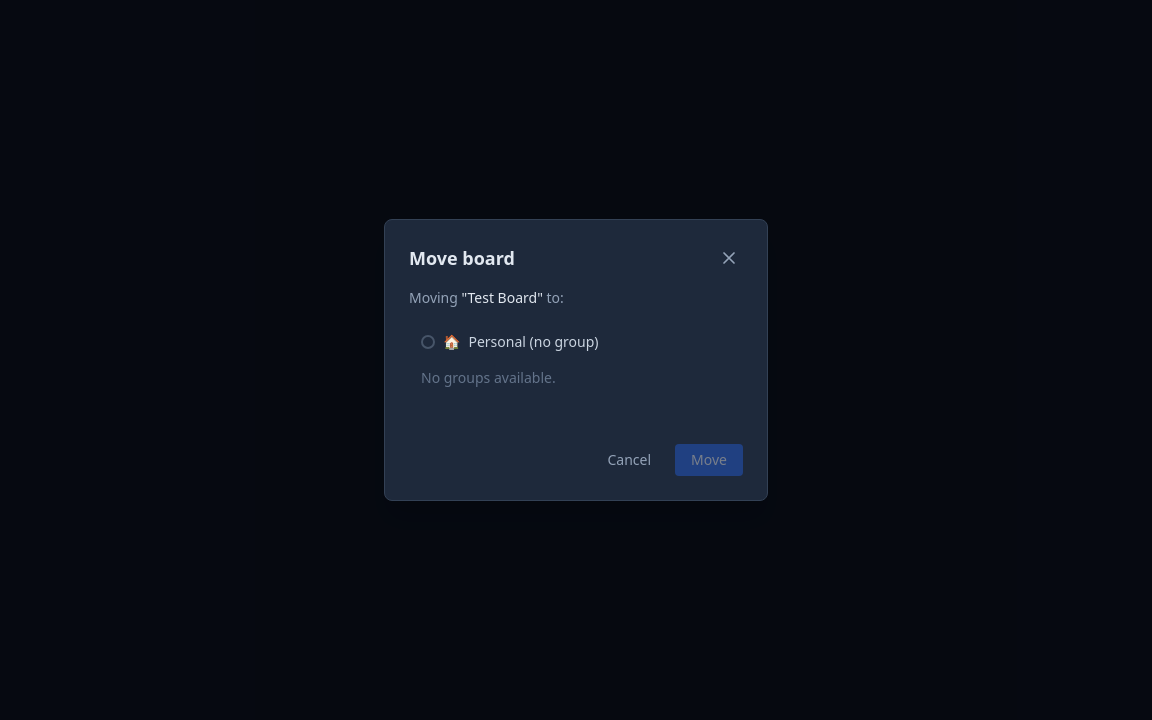
Test: MoveBoardModal › enables move button when different selection is made
Wait for groups to load
Click the text "Personal (no group)".
click(534, 342)  # box left=468, top=332, right=599, bottom=351
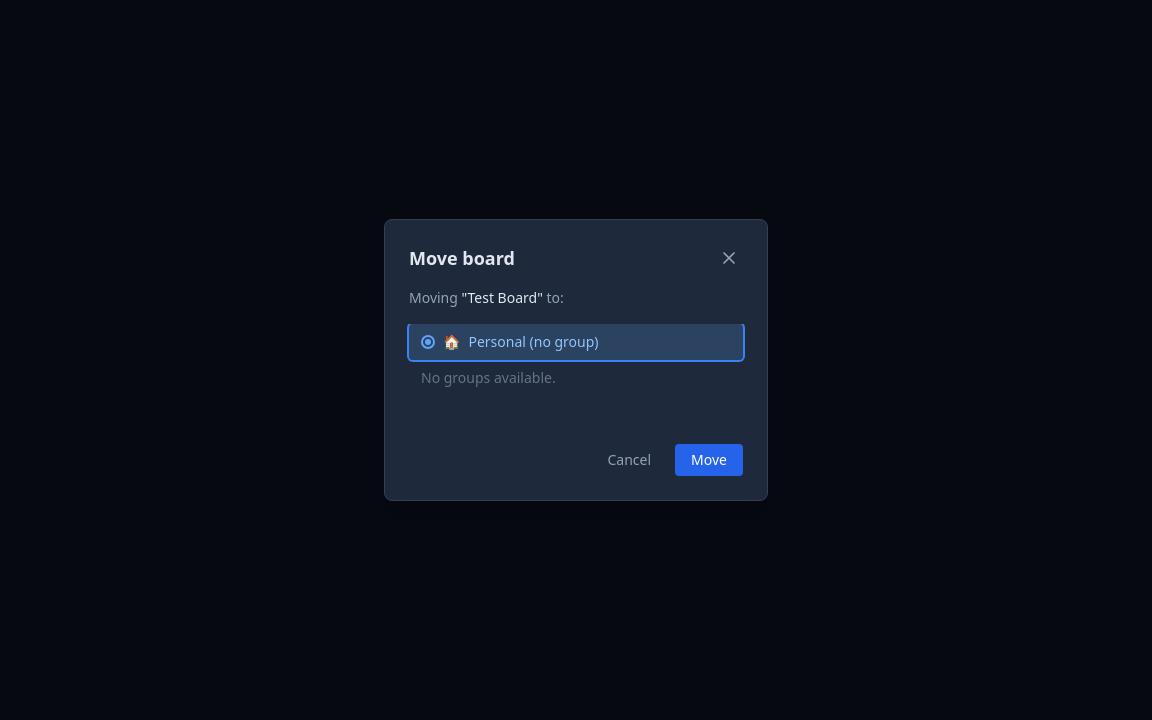
expect the button "Move" is enabled: met, box left=675, top=444, right=743, bottom=476
